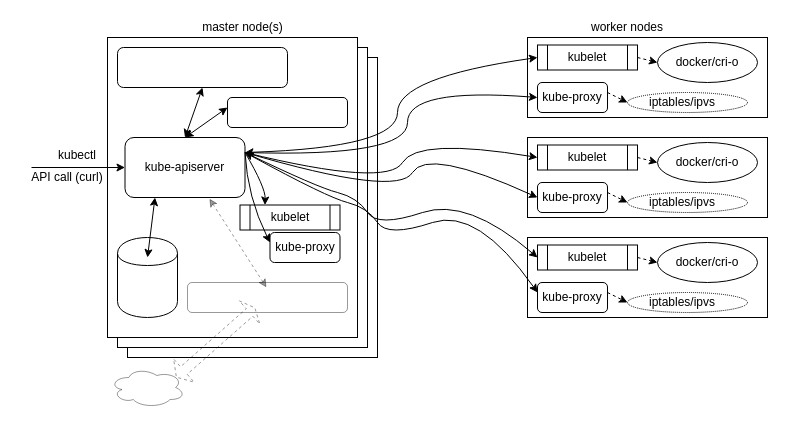
Some shapes in this 785 by 425 pixel diagram are drawn without their labels. Here are the shapes that lost their labels. From the top down, the centre of each, then its label:
the point at 202,67: kube-controller-manager
the point at 287,112: kube-scheduler
the point at 147,277: etcd
the point at 267,297: cloud-controller-manager
